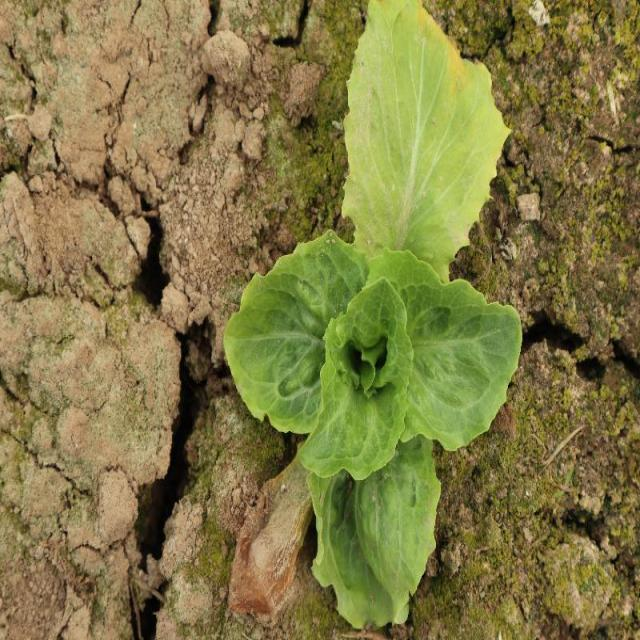crop: (223, 0, 525, 634)
